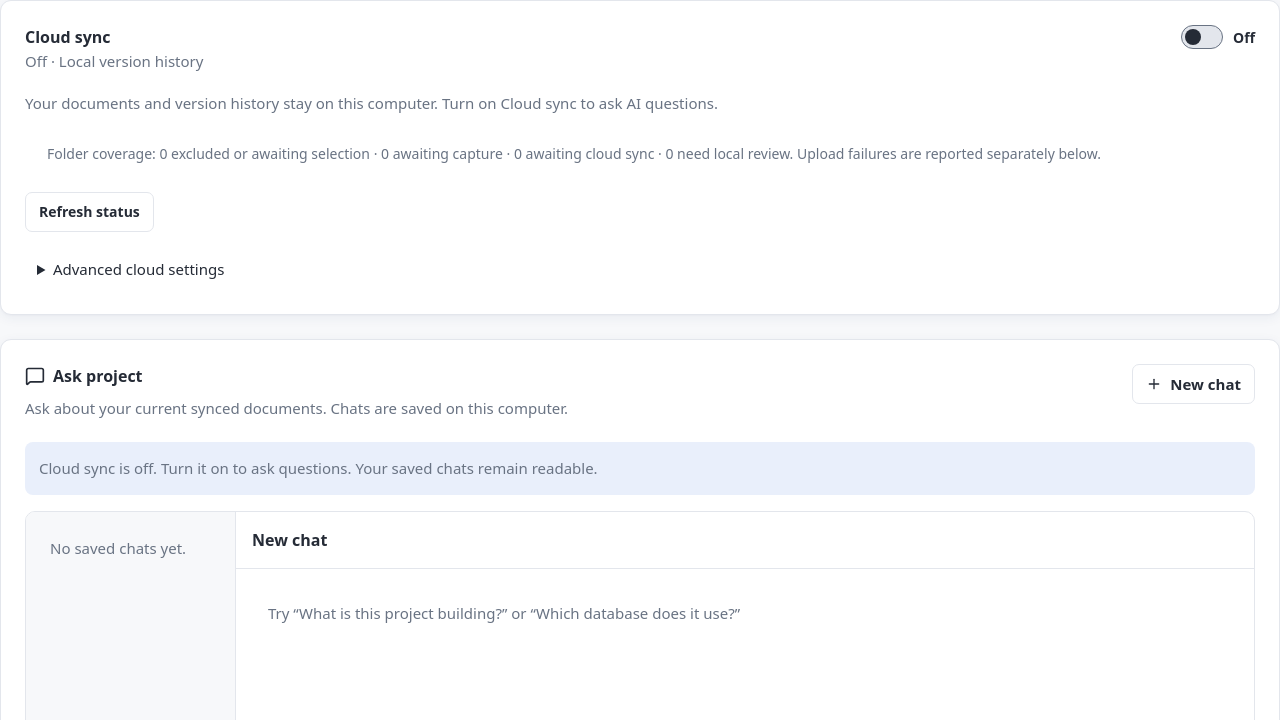
Test case: does not enable cloud with an empty folder selection
Click the switch named "Cloud sync". click: x=1202, y=37
box: [1181,25,1223,49]
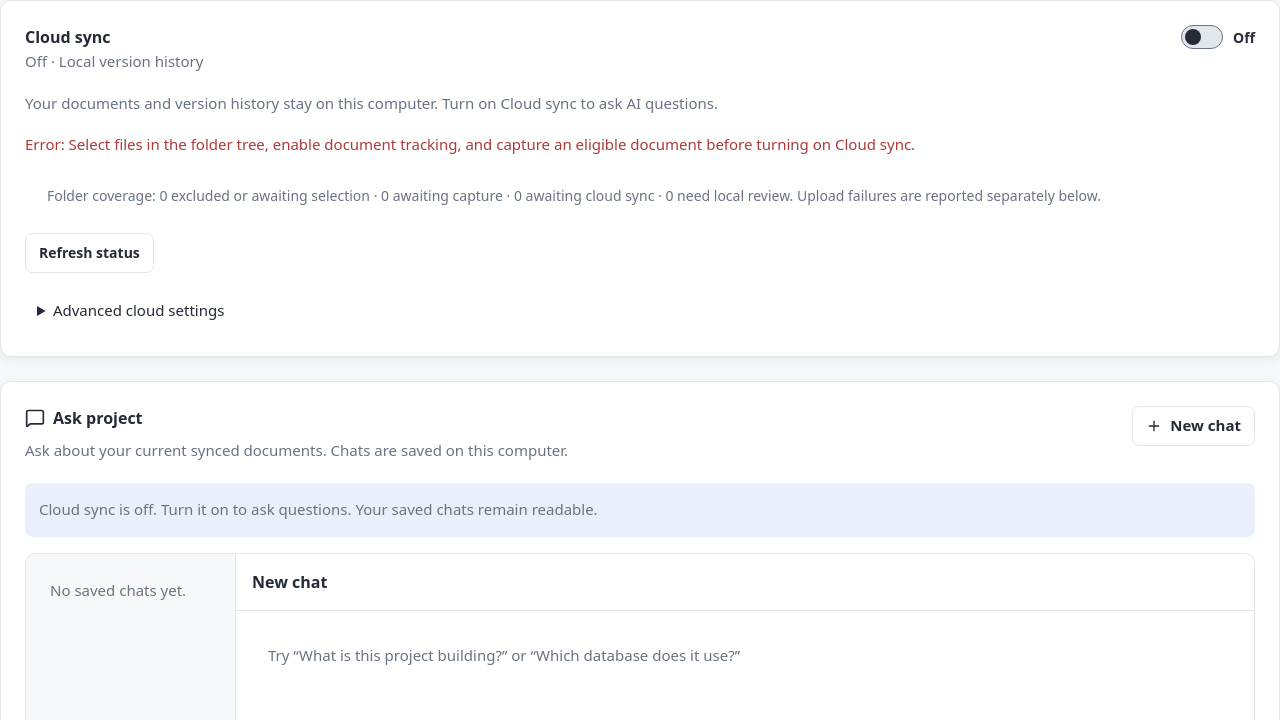
expect the text "Select files in the folder tree, enable document tracking" is shown: met, box [25,134,915,154]
